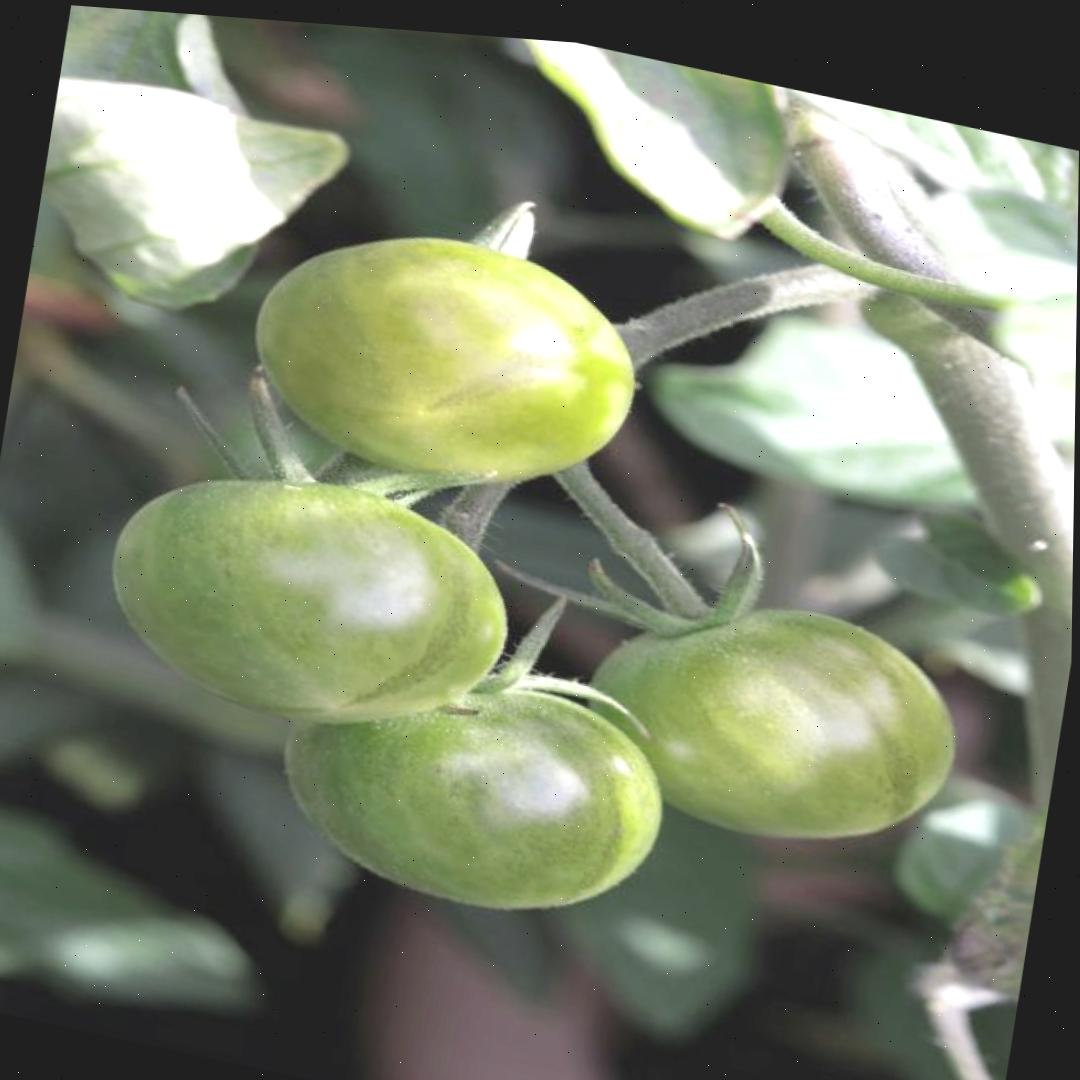mentah: (91, 432, 527, 762), (236, 197, 654, 516), (263, 634, 680, 946), (570, 570, 980, 876)
